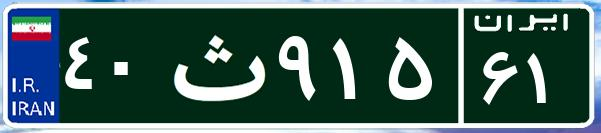0: (110, 28, 158, 105)
1: (330, 28, 385, 110), (525, 38, 570, 115)
4: (57, 26, 110, 107)
5: (385, 28, 445, 110)
6: (475, 38, 525, 113)
9: (273, 28, 330, 110)
ث: (158, 15, 273, 115)
